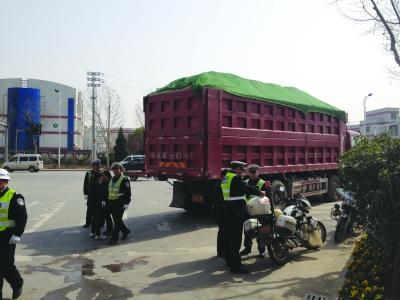chaozhai: (140, 55, 365, 216)
